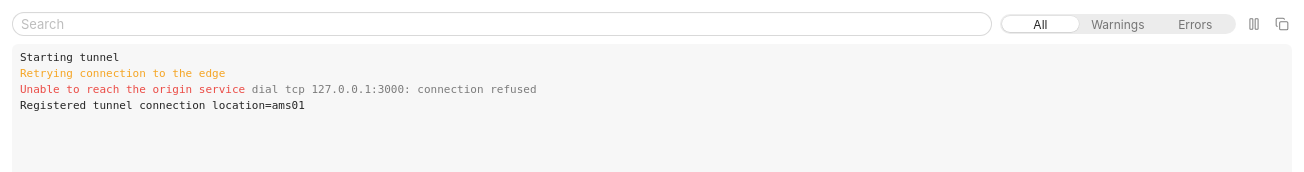
Scenario: LogViewer › filters by level and highlights search matches
Expected: the number of list items is 4, [20,51,119,64]; [20,67,225,80]; [20,83,537,96]; [20,99,305,112]
Click the radio button labelled "Errors" at [1195, 24], box [1157,16,1234,32]
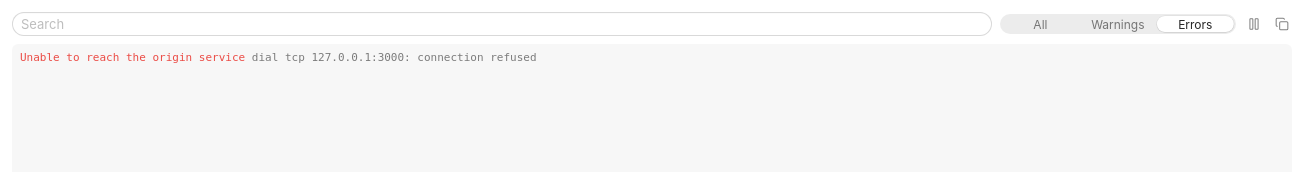
Now the number of list items is 1, box [20,51,537,64]
Click the radio button labelled "Warnings" at [1118, 24], box [1079,16,1156,32]
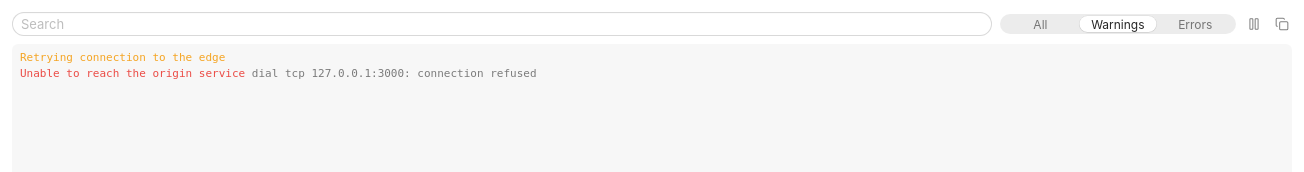
Now the number of list items is 2, box [20,51,225,64]; [20,67,537,80]
Click the radio button labelled "All" at [1040, 24], box [1002,16,1079,32]
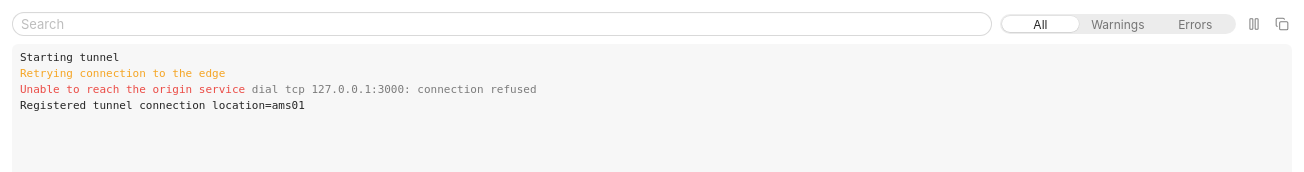
Type "REFUSED" into the search field named "Search the log" at [502, 24], box [12,12,992,36]
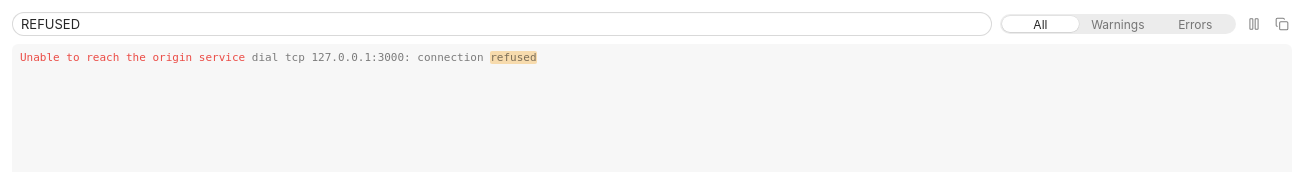
Expected: the text "refused" is shown, [490,51,537,64]
Now the number of list items is 1, box [20,51,537,64]
Replace the text in the search field named "Search the log" with "nope" at [502, 24], box [12,12,992,36]
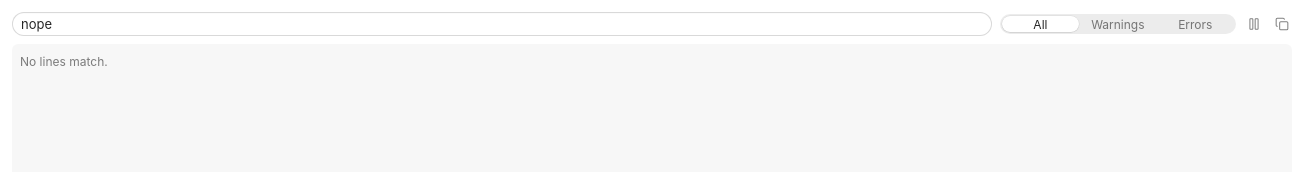
Now the text "No lines match." is shown, box [20,54,108,69]
